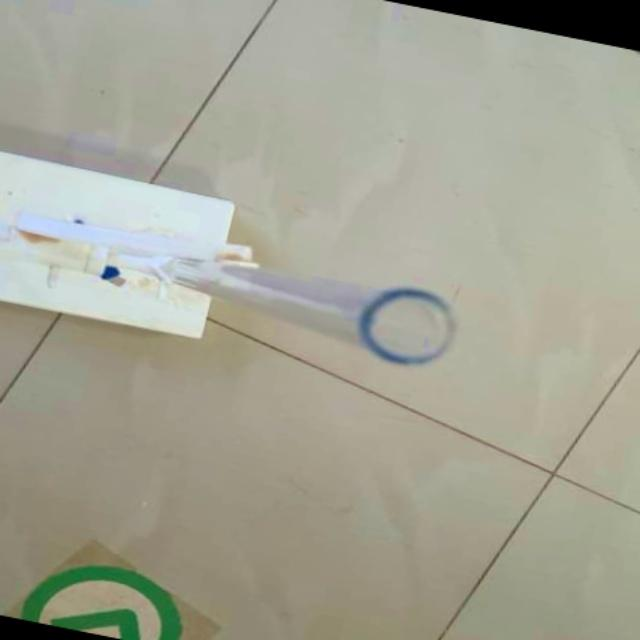Biurette: (53, 186, 480, 423)
